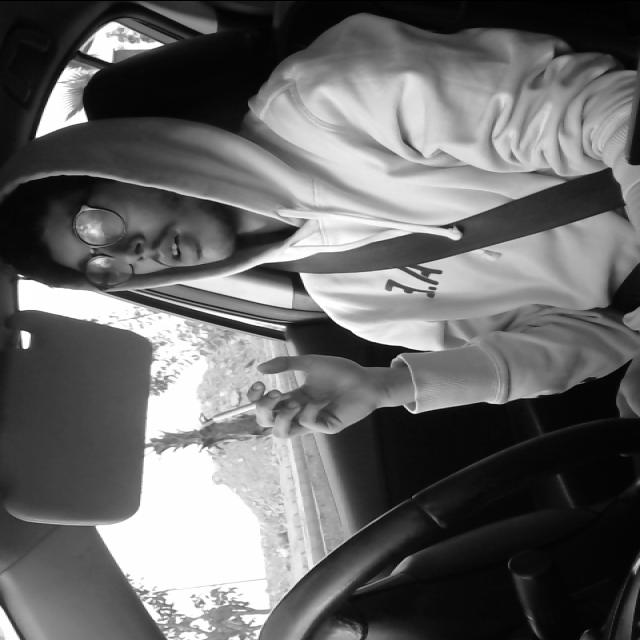smoking: (212, 386, 296, 425)
